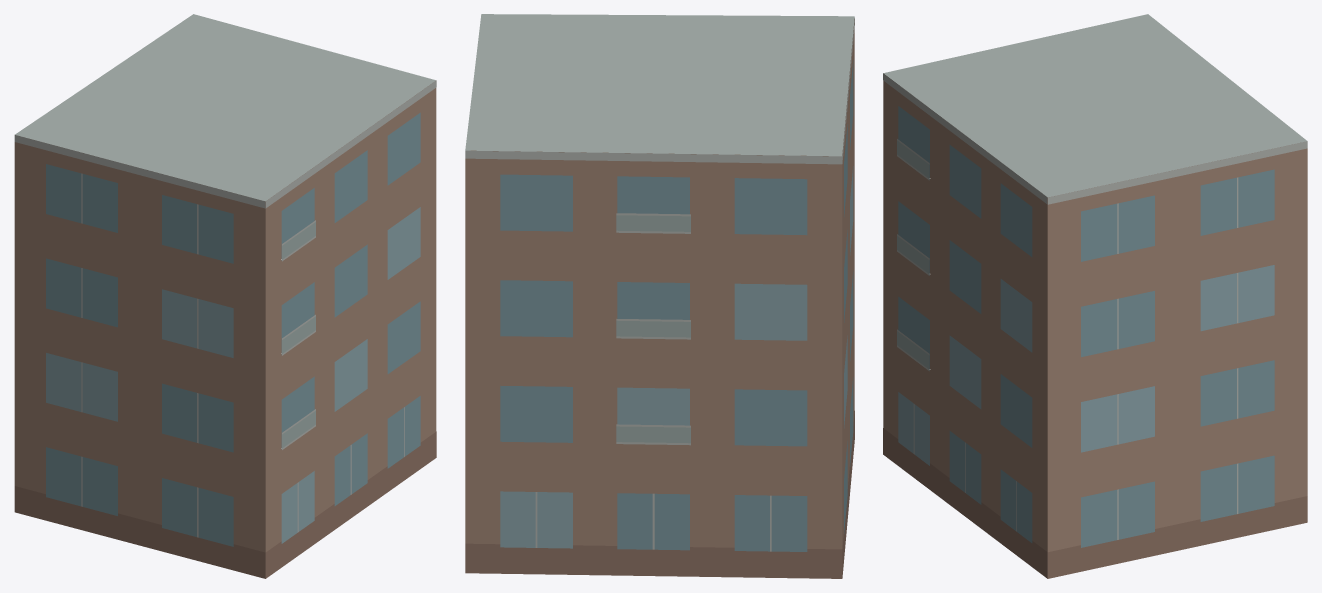
Rendered from survey-upis-32610119.glb.
3 views of the same model, side by side, from view 1: azimuth 30°, elevation 25°; view 2: azimuth 150°, elevation 25°; view 3: azimuth 270°, elevation 25° (orthographic). The views are drawn at different scales.
Visible parts, largest first — view 1: survey-upis-32610119.tmp; view 2: survey-upis-32610119.tmp; view 3: survey-upis-32610119.tmp.
Part boxes in pixels (x1,y1,x2,y2): survey-upis-32610119.tmp: (14,14,436,578); survey-upis-32610119.tmp: (465,14,854,578); survey-upis-32610119.tmp: (883,14,1307,578).
Bounding box in the file's own units: 13.21 × 12.8 × 12.92.
